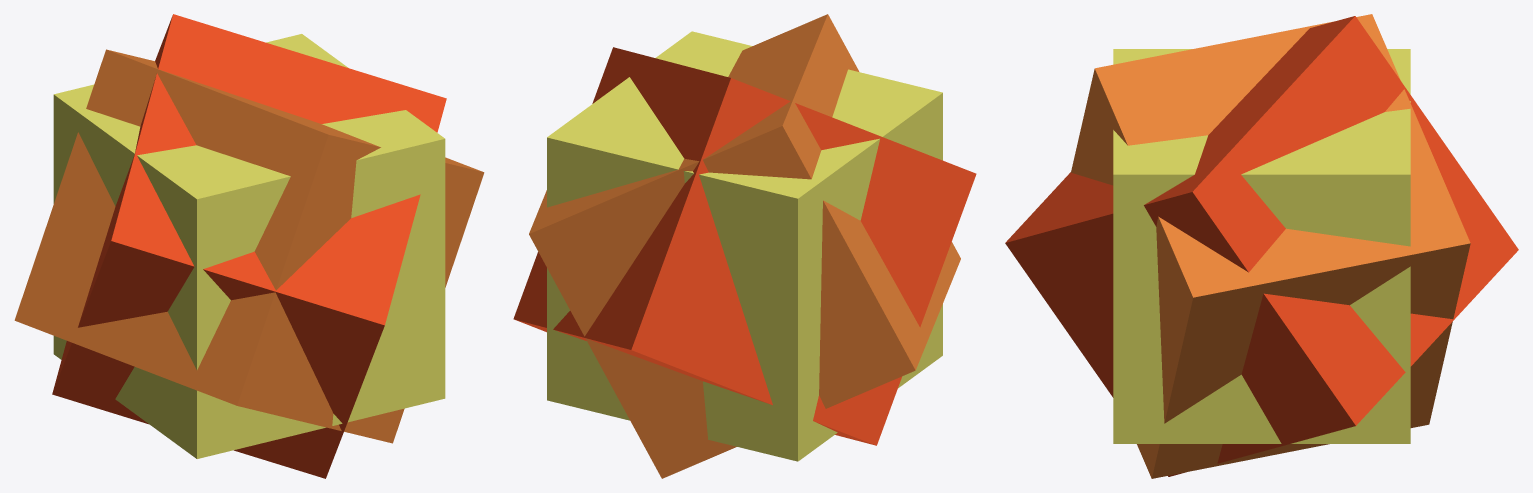
Rendered from Obstaculo1.fbx.
3 views of the same model, side by side, from view 1: azimuth 30°, elevation 25°; view 2: azimuth 150°, elevation 25°; view 3: azimuth 270°, elevation 25° (orthographic). The views are drawn at different scales.
Visible parts, largest first — view 1: Cube.002; view 2: Cube.002; view 3: Cube.002.
Part boxes in pixels (x1,y1,x2,y2): Cube.002: [14, 14, 484, 478]; Cube.002: [513, 14, 976, 478]; Cube.002: [1005, 14, 1518, 478].
Size of the model in its own units: 325 by 319 by 346.
